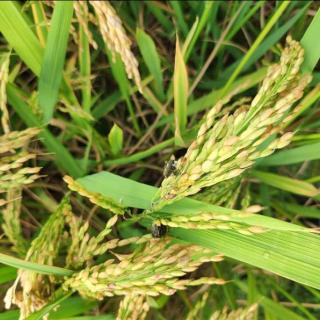Gosong-Palsu: (161, 157, 180, 180), (148, 218, 168, 239)
